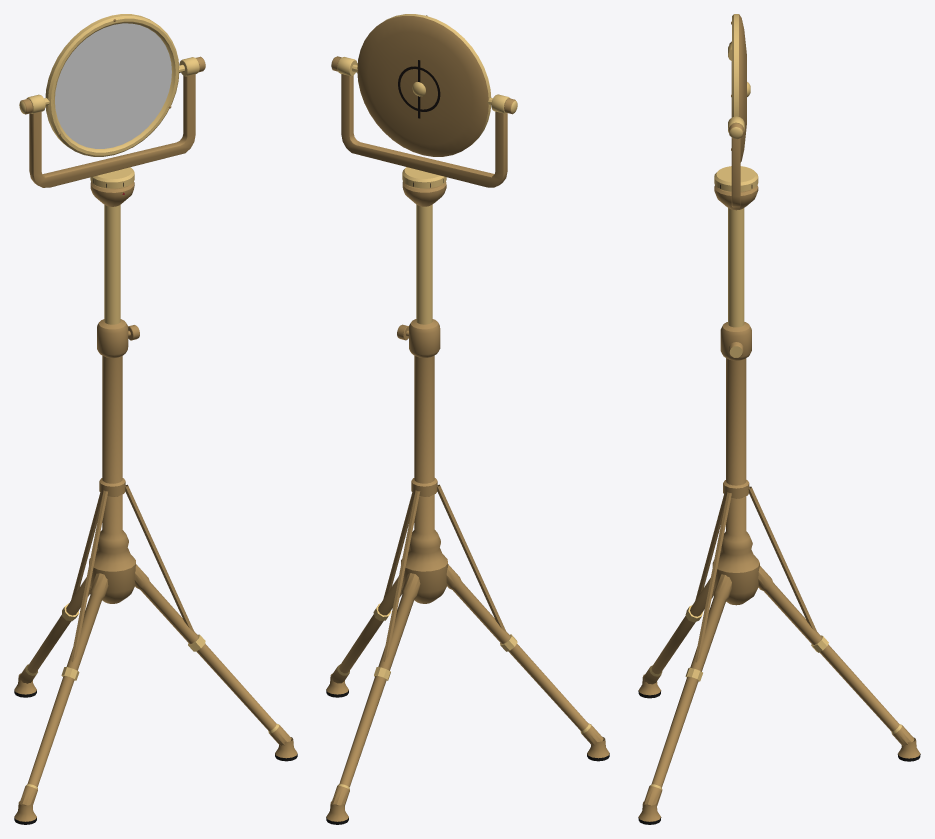
The model's file is mirror_stand.glb.
3 views of the same model, side by side, from view 1: azimuth 30°, elevation 25°; view 2: azimuth 150°, elevation 25°; view 3: azimuth 270°, elevation 25° (orthographic).
Visible parts, largest first — view 1: stand_base, mirror, IA_mirror_mount; view 2: stand_base, mirror, IA_mirror_mount; view 3: stand_base, IA_mirror_mount, mirror.
Part boxes in pixels (bbox=[...]): stand_base: bbox=[14, 182, 297, 824]; mirror: bbox=[44, 14, 184, 156]; IA_mirror_mount: bbox=[19, 56, 205, 188]; stand_base: bbox=[326, 182, 609, 824]; mirror: bbox=[352, 14, 492, 156]; IA_mirror_mount: bbox=[331, 56, 517, 188]; stand_base: bbox=[638, 185, 920, 824]; IA_mirror_mount: bbox=[714, 41, 758, 207]; mirror: bbox=[731, 14, 750, 162].
Size of the model in its own units: 0.5033 by 1.27 by 0.4406.
